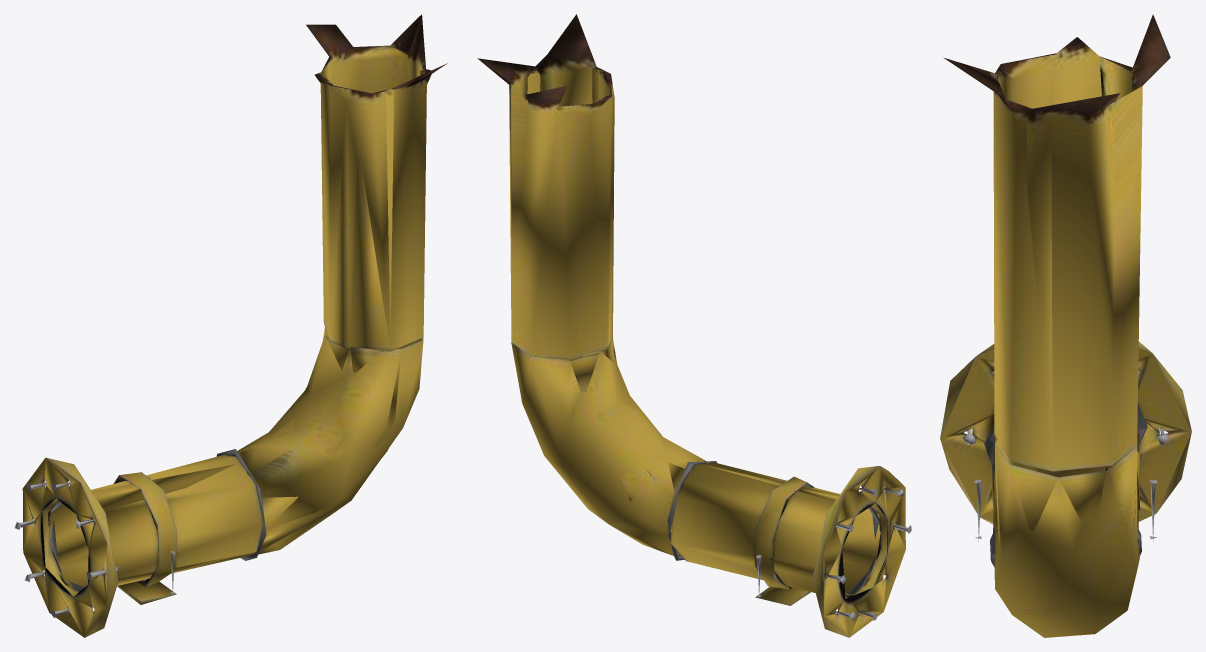
The model's file is industrial_pipe_elbow_torn_lod2.glb.
3 renders of one model, left to right at view 1: azimuth 30°, elevation 25°; view 2: azimuth 150°, elevation 25°; view 3: azimuth 270°, elevation 25°, orthographic. The views are drawn at different scales.
Parts seen in each view (by area): view 1: industrial_pipe_elbow_torn_paint, industrial_pipe_elbow_torn_weld, industrial_pipe_elbow_torn_bolt; view 2: industrial_pipe_elbow_torn_paint, industrial_pipe_elbow_torn_weld, industrial_pipe_elbow_torn_bolt; view 3: industrial_pipe_elbow_torn_paint, industrial_pipe_elbow_torn_weld, industrial_pipe_elbow_torn_bolt.
Boxes of the visible parts, x1,y1,x2,y2 form: industrial_pipe_elbow_torn_paint: [22, 14, 447, 637]; industrial_pipe_elbow_torn_weld: [49, 449, 266, 591]; industrial_pipe_elbow_torn_bolt: [14, 482, 175, 617]; industrial_pipe_elbow_torn_paint: [477, 14, 905, 637]; industrial_pipe_elbow_torn_weld: [667, 461, 879, 595]; industrial_pipe_elbow_torn_bolt: [756, 488, 911, 620]; industrial_pipe_elbow_torn_paint: [940, 14, 1191, 637]; industrial_pipe_elbow_torn_weld: [984, 403, 1147, 567]; industrial_pipe_elbow_torn_bolt: [963, 372, 1168, 541].
Bounding box in the file's own units: 1.3 × 1.64 × 0.5226.
Materials: 3 (1 with a texture image).
